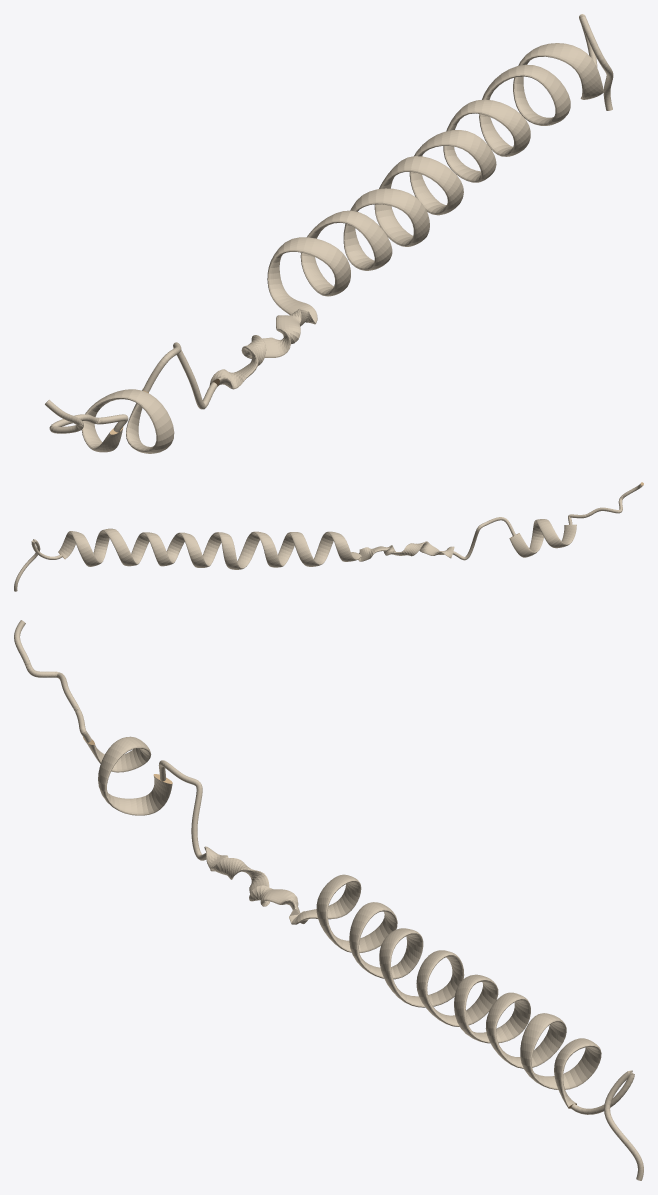
The model's file is fCoilfCoilHelix.dae.
3 renders of one model, top to bottom at view 1: azimuth 30°, elevation 25°; view 2: azimuth 150°, elevation 25°; view 3: azimuth 270°, elevation 25°, orthographic. The views are drawn at different scales.
Visible parts, largest first — view 1: Shape_IndexedTriangleStripSet_061; view 2: Shape_IndexedTriangleStripSet_061; view 3: Shape_IndexedTriangleStripSet_061.
Part boxes in pixels (x1,y1,x2,y2): Shape_IndexedTriangleStripSet_061: [45, 14, 613, 453]; Shape_IndexedTriangleStripSet_061: [14, 482, 643, 591]; Shape_IndexedTriangleStripSet_061: [14, 620, 643, 1180].
Bounding box in the file's own units: 76.63 × 51.31 × 14.87.
